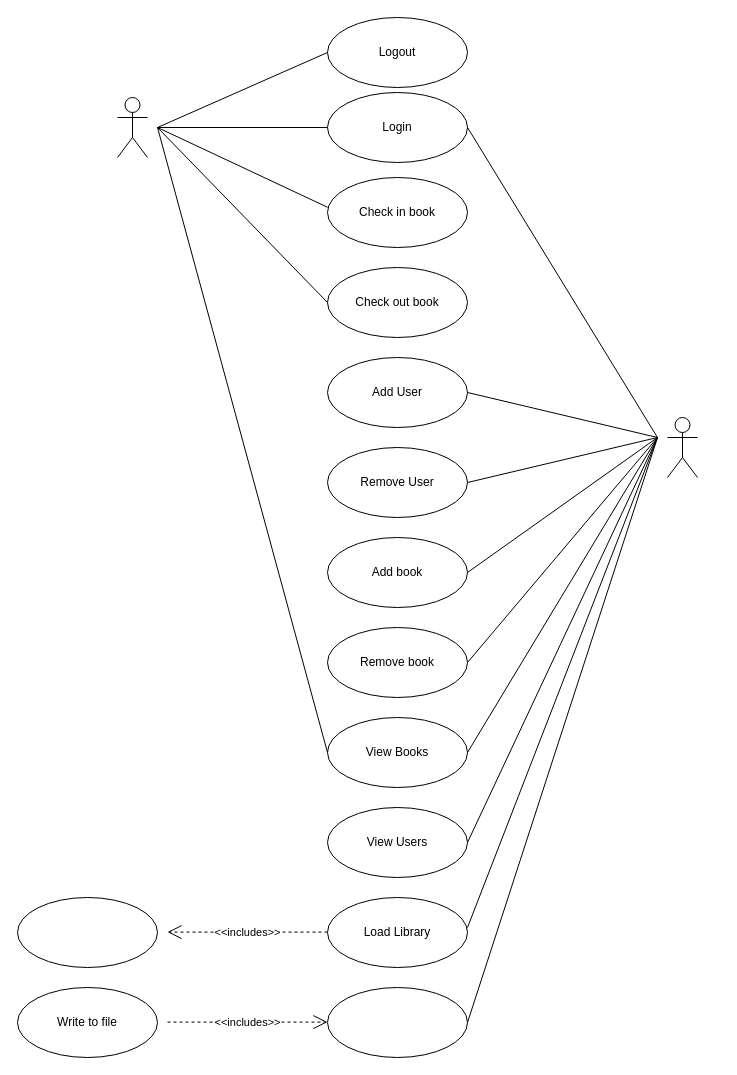
The diagram is 737 pixels wide and 1075 high, and some of its shapes have lost their labels. The centre of each missing label's shape, as x and y in pixels:
Export Library: point 397,1022
Get library file: point 87,932
Library/Admin: point 682,447
User: point 132,127
